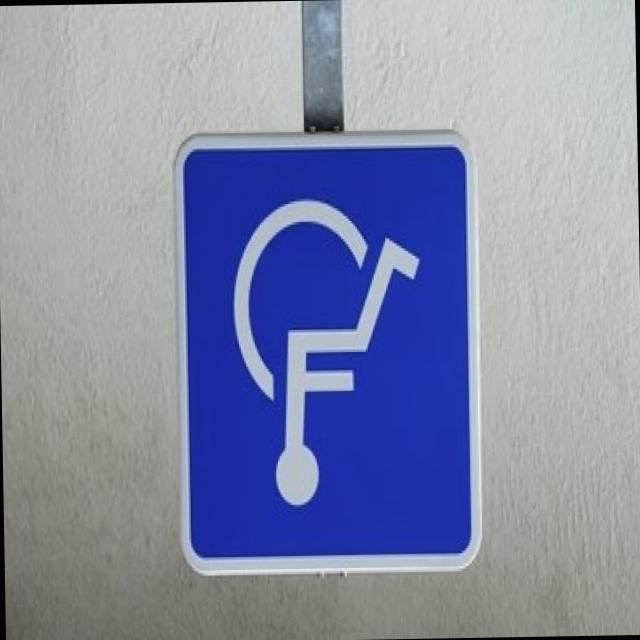symbol_of_access: (171, 128, 482, 580)
